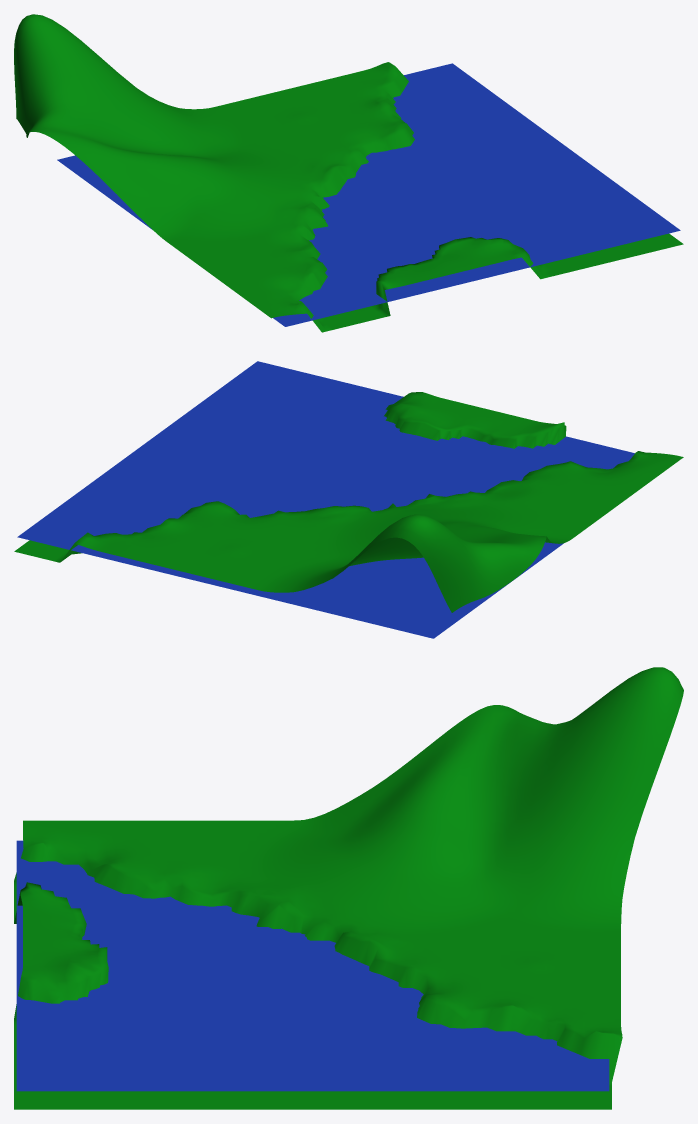
The model's file is LandscapeScene.glb.
3 renders of one model, top to bottom at view 1: azimuth 30°, elevation 25°; view 2: azimuth 150°, elevation 25°; view 3: azimuth 270°, elevation 25°, orthographic. The views are drawn at different scales.
Parts seen in each view (by area): view 1: Plane, Plane.001; view 2: Plane.001, Plane; view 3: Plane, Plane.001.
Boxes of the visible parts, bbox=[...] form: Plane: bbox=[14, 14, 683, 332]; Plane.001: bbox=[57, 63, 680, 326]; Plane.001: bbox=[17, 361, 634, 638]; Plane: bbox=[14, 392, 683, 612]; Plane: bbox=[14, 667, 683, 1109]; Plane.001: bbox=[16, 840, 609, 1091].
Bounding box in the file's own units: 23.11 × 6.89 × 22.41.
